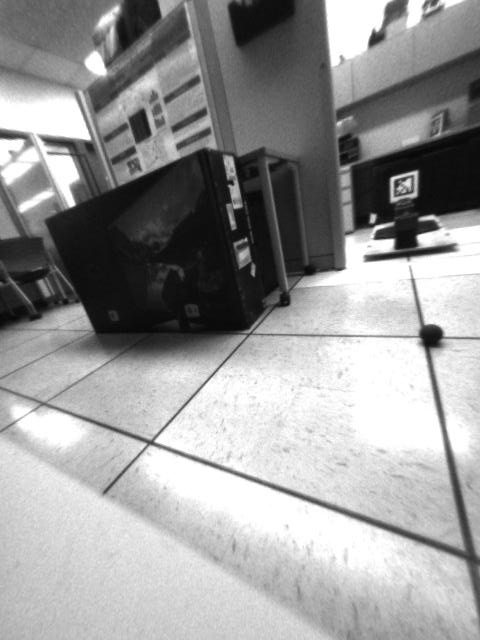dogtoy: (404, 316, 451, 354)
